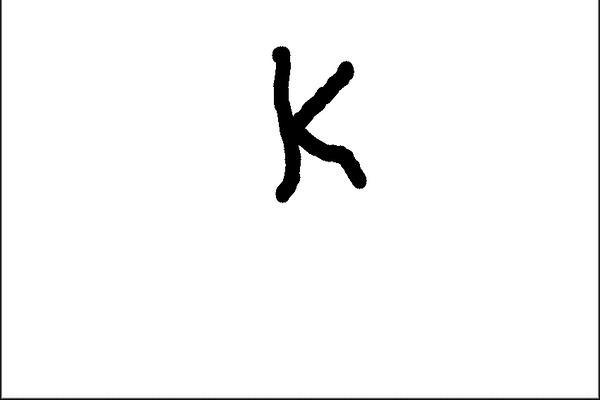K: (264, 39, 375, 208)
